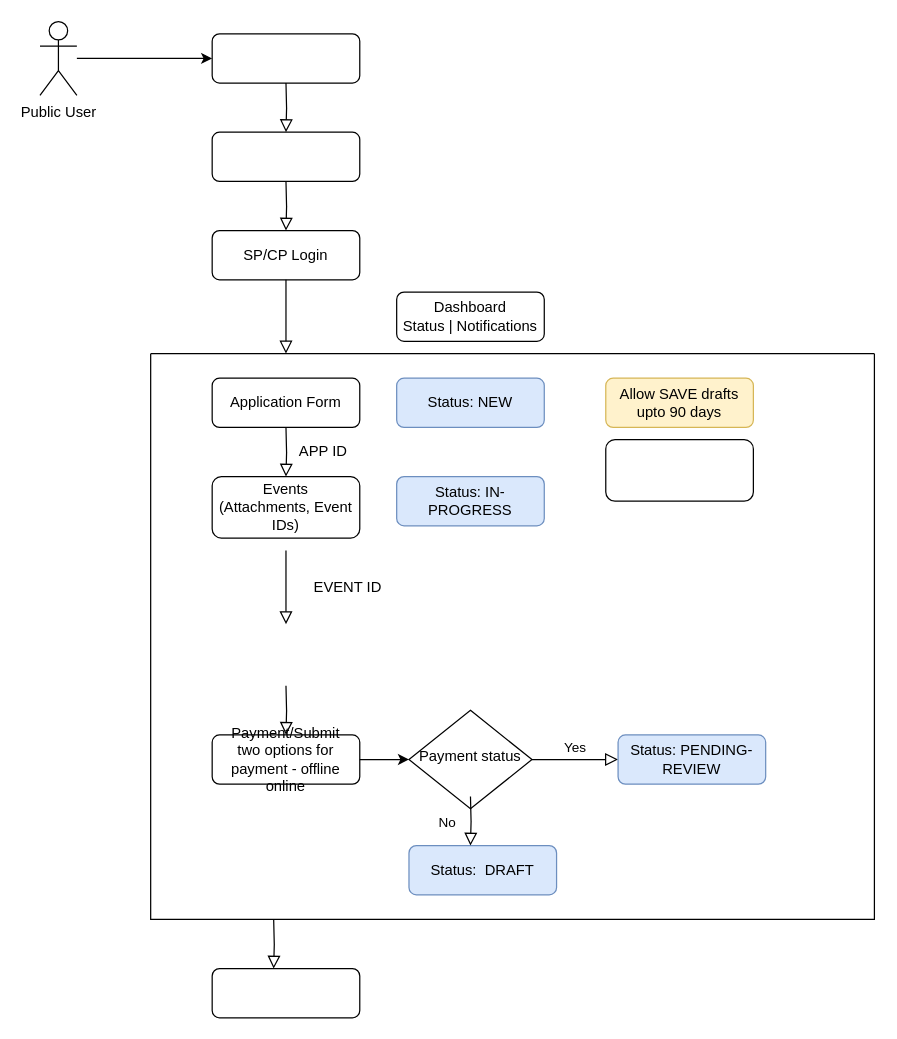
This 897x1039 diagram has some shape labels left out. The shapes that lost their labels are listed below. From the top down, each one's centre as x and y in pixels, then its label:
the point at 285,58: Homepage
the point at 285,156: Content classification (AEC)
the point at 679,469: SAVE as draft
the point at 285,992: ACK Summary/notification
